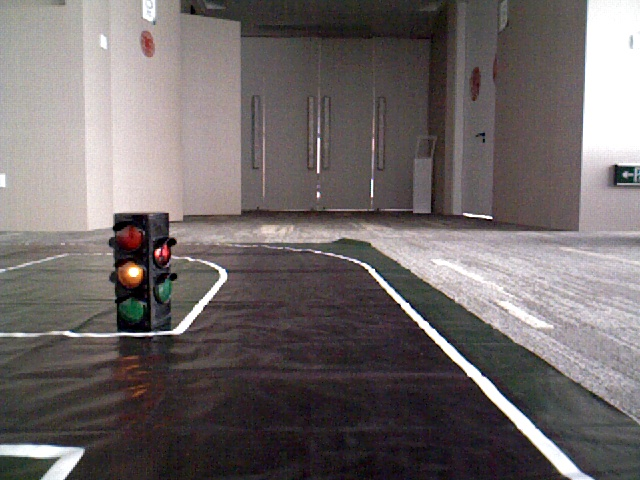yellow: (113, 213, 151, 324)
